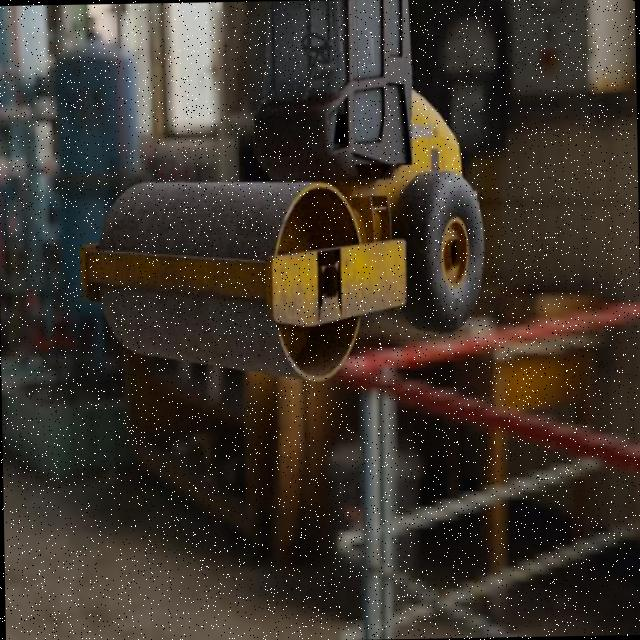Roller: (74, 0, 486, 386)
